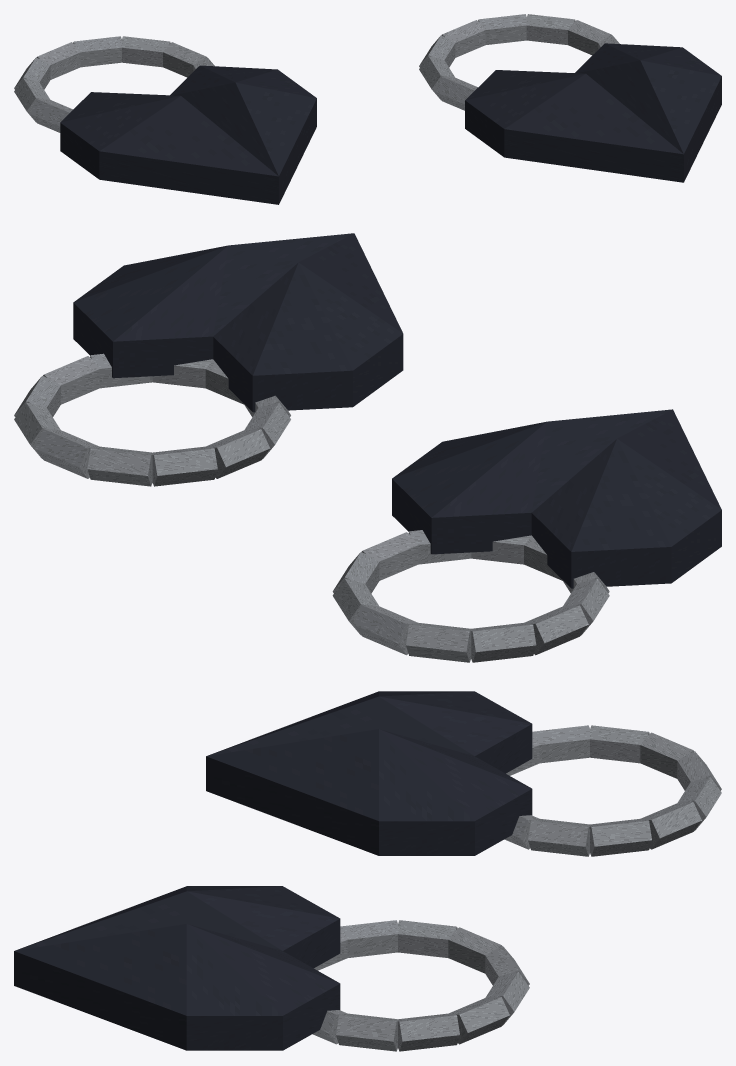
File: onyx_silver_earring.glb
The picture shows the model from 3 angles, top to bottom: view 1: azimuth 30°, elevation 25°; view 2: azimuth 150°, elevation 25°; view 3: azimuth 270°, elevation 25°; orthographic projection. The views are drawn at different scales.
Parts seen in each view (by area): view 1: block_heart -1 -1, block_heart 1 -1, block_heart -1 1, block_heart 1 1, block_wire 110, block_wire 19, block_wire -19, block_wire -110, block_wire -18, block_wire 18, block_wire -111, block_wire 111 (+6 smaller); view 2: block_heart 1 -1, block_heart -1 -1, block_heart 1 1, block_heart -1 1, block_wire -18, block_wire 17, block_wire 18, block_wire -17, block_wire -19, block_wire -16, block_wire 16, block_wire 19 (+14 smaller); view 3: block_heart 1 1, block_heart -1 1, block_heart -1 -1, block_heart 1 -1, block_wire 111, block_wire -111, block_wire 10, block_wire -10, block_wire -16, block_wire 16, block_wire -15, block_wire 15 (+8 smaller).
Part boxes in pixels (x1,y1,x2,y2): block_heart -1 -1: (60, 92, 278, 204); block_heart 1 -1: (465, 70, 683, 182); block_heart -1 1: (170, 65, 316, 203); block_heart 1 1: (575, 43, 721, 181); block_wire 110: (526, 14, 575, 44); block_wire 19: (478, 14, 526, 44); block_wire -19: (73, 36, 121, 67); block_wire -110: (122, 36, 170, 67); block_wire -18: (36, 42, 80, 79); block_wire 18: (441, 20, 485, 57); block_wire -111: (163, 42, 206, 77); block_wire 111: (568, 20, 611, 55); block_heart 1 -1: (213, 233, 403, 412); block_heart -1 -1: (531, 409, 721, 588); block_heart 1 1: (73, 233, 353, 378); block_heart -1 1: (392, 409, 672, 554); block_wire -18: (406, 622, 471, 662); block_wire 17: (152, 446, 217, 486); block_wire 18: (87, 446, 152, 486); block_wire -17: (471, 623, 536, 662); block_wire -19: (353, 605, 417, 655); block_wire -16: (524, 605, 588, 655); block_wire 16: (206, 429, 270, 478); block_wire 19: (35, 429, 99, 478); block_heart 1 1: (14, 923, 340, 1050); block_heart -1 1: (206, 729, 532, 855); block_heart -1 -1: (207, 691, 532, 773); block_heart 1 -1: (15, 886, 340, 968); block_wire 111: (398, 1013, 459, 1051); block_wire -111: (590, 818, 651, 856); block_wire 10: (336, 1013, 397, 1051); block_wire -10: (528, 818, 589, 856); block_wire -16: (590, 725, 649, 763); block_wire 16: (398, 920, 457, 957); block_wire -15: (532, 725, 589, 763); block_wire 15: (340, 920, 397, 957).
Size of the model in its own units: 0.04 by 0.00536 by 0.0369.
1 material, 1 textured.
